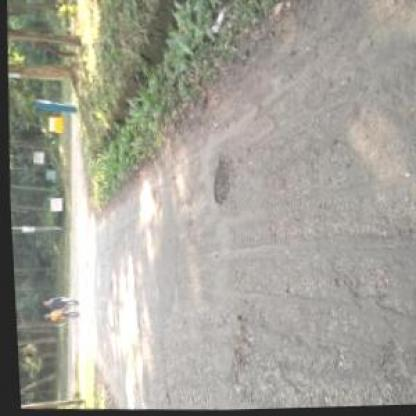pothole: (207, 151, 240, 204), (228, 322, 252, 364)
